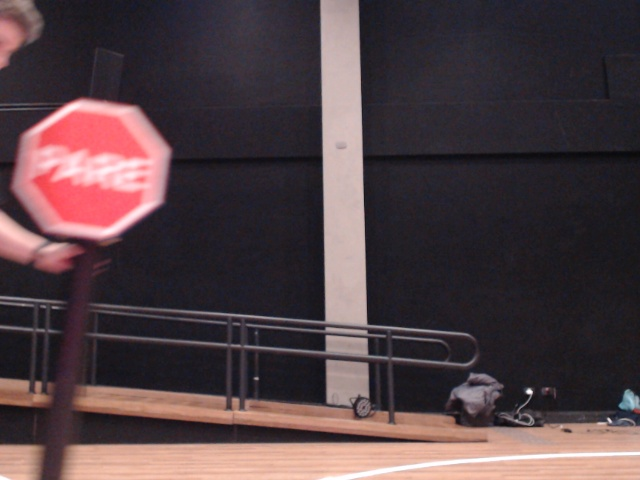SEMAFORO: (5, 91, 210, 280)
